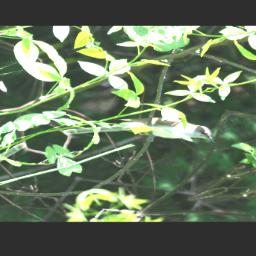Cuckoo: (62, 95, 220, 176)
